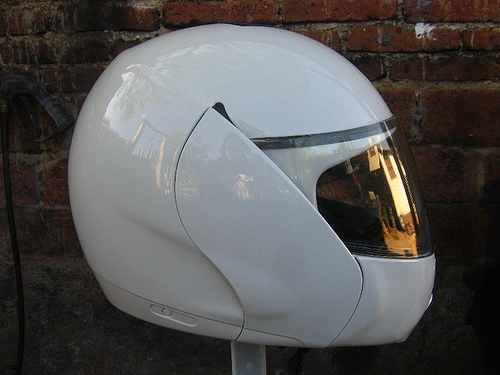helmet: (88, 33, 434, 357)
